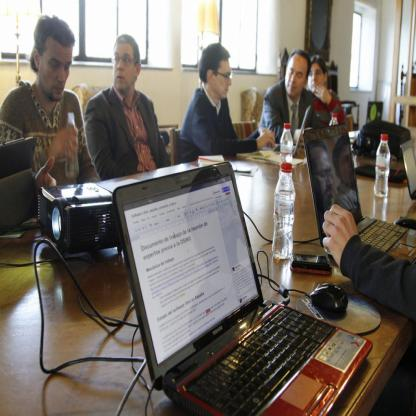board: (95, 152, 358, 416), (302, 123, 416, 264), (258, 106, 312, 157), (272, 161, 295, 260), (374, 132, 390, 199), (400, 139, 414, 199), (280, 123, 295, 170), (328, 109, 339, 127)
